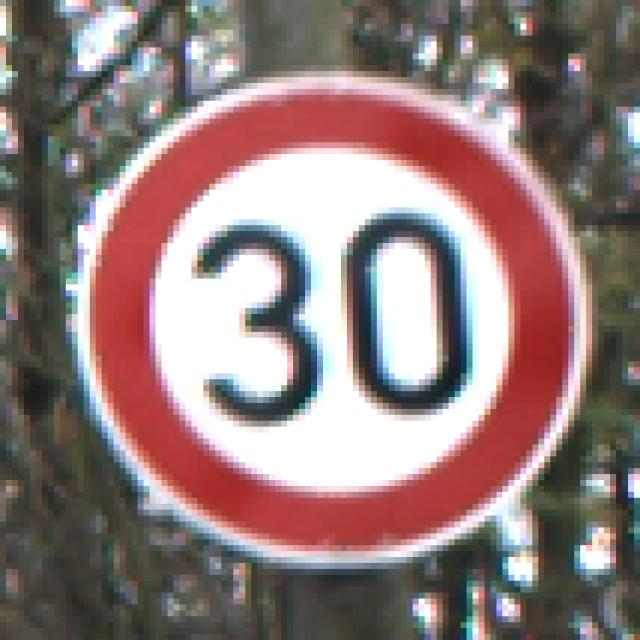Speed Limit -30-: (60, 59, 574, 575)
